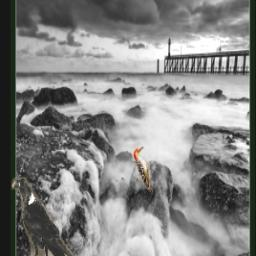Crow: (12, 179, 75, 256)
Woodpecker: (134, 145, 154, 195)
